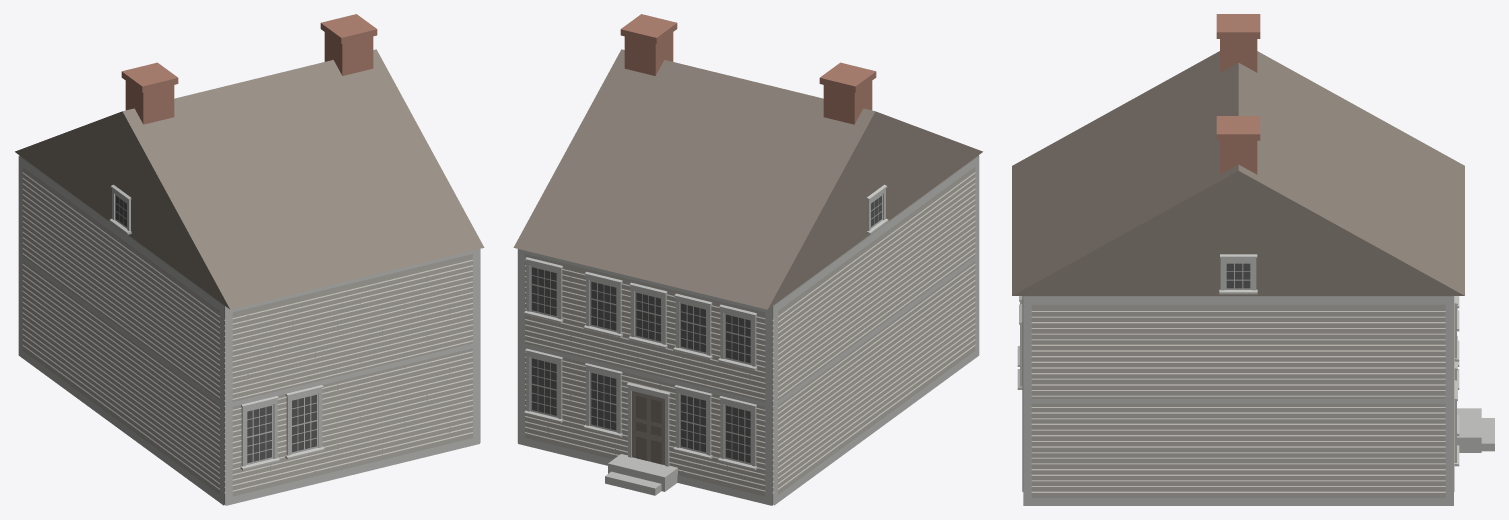
File: recon_1835_blk_west_washington_canal_d7_05__inferred_1835.glb
3 renders of one model, left to right at view 1: azimuth 30°, elevation 25°; view 2: azimuth 150°, elevation 25°; view 3: azimuth 270°, elevation 25°, orthographic. The views are drawn at different scales.
Parts seen in each view (by area): view 1: recon_1835_blk_west_washington_canal_d7_05__inferred_1835; view 2: recon_1835_blk_west_washington_canal_d7_05__inferred_1835; view 3: recon_1835_blk_west_washington_canal_d7_05__inferred_1835.
Boxes of the visible parts, box(x1,y1,x2,y2) form: recon_1835_blk_west_washington_canal_d7_05__inferred_1835: box(15, 14, 484, 505); recon_1835_blk_west_washington_canal_d7_05__inferred_1835: box(513, 14, 982, 505); recon_1835_blk_west_washington_canal_d7_05__inferred_1835: box(1012, 14, 1494, 505).
Bounding box in the file's own units: 7.12 × 9.07 × 10.84.
